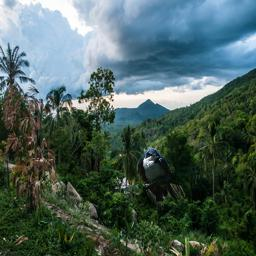Swallow: (136, 147, 186, 207)
